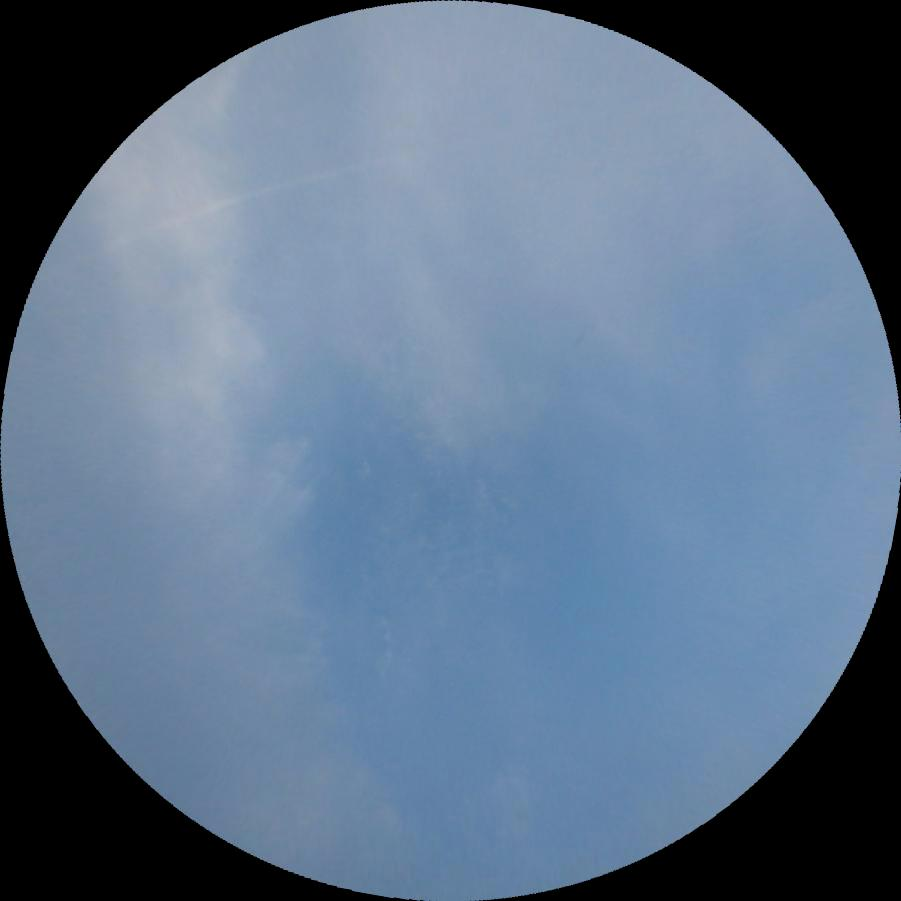contrail veryold: (83, 122, 496, 260)
